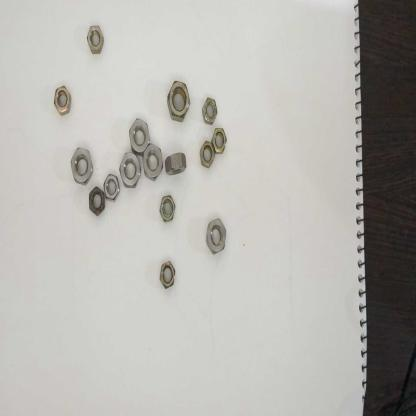NUTS: (164, 76, 192, 126), (126, 114, 153, 159), (68, 144, 94, 185), (204, 216, 228, 257), (142, 141, 164, 184), (118, 151, 142, 189), (51, 84, 74, 119), (162, 150, 190, 178), (157, 257, 178, 292), (87, 183, 107, 219), (101, 170, 122, 203), (85, 22, 106, 54), (210, 127, 230, 157), (199, 138, 217, 171), (202, 95, 220, 127), (159, 193, 177, 225)
